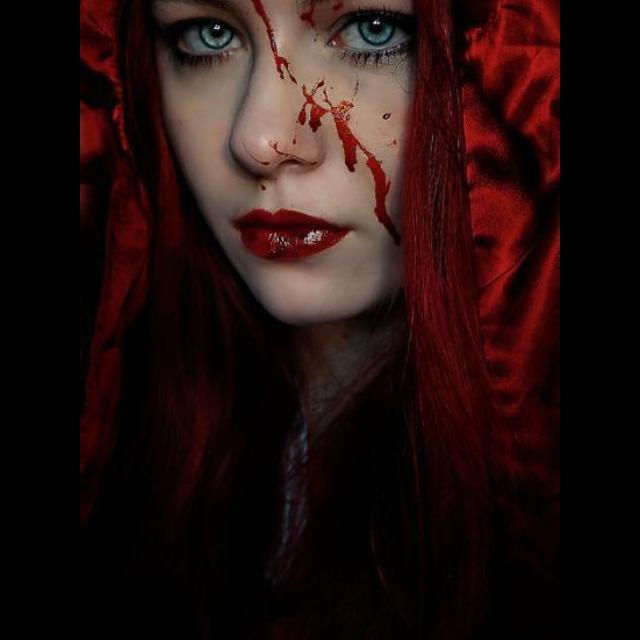blood: (230, 0, 400, 244)
